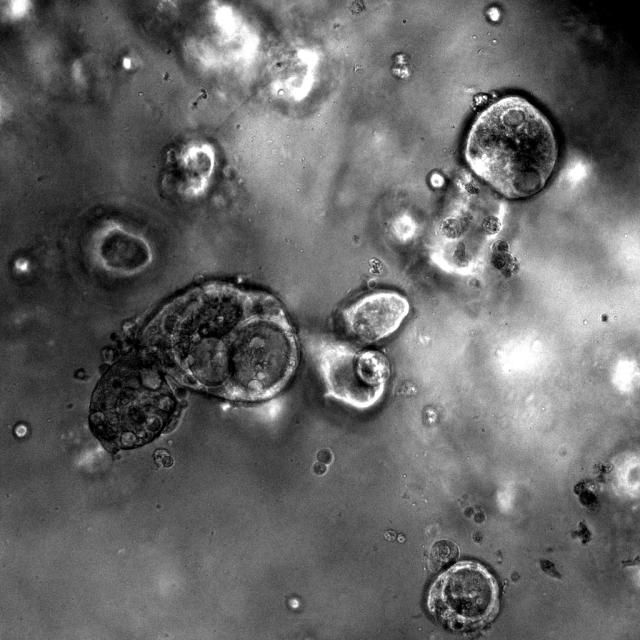organoid: (88, 279, 300, 453), (307, 287, 409, 413), (462, 92, 557, 199), (422, 539, 501, 632), (574, 463, 611, 510), (491, 241, 518, 277), (441, 212, 472, 239), (459, 494, 485, 523), (313, 448, 332, 475), (154, 448, 173, 467), (482, 215, 501, 234), (454, 243, 469, 267), (383, 529, 406, 543), (369, 257, 383, 274), (464, 180, 479, 194), (472, 532, 482, 544), (511, 570, 520, 581)
